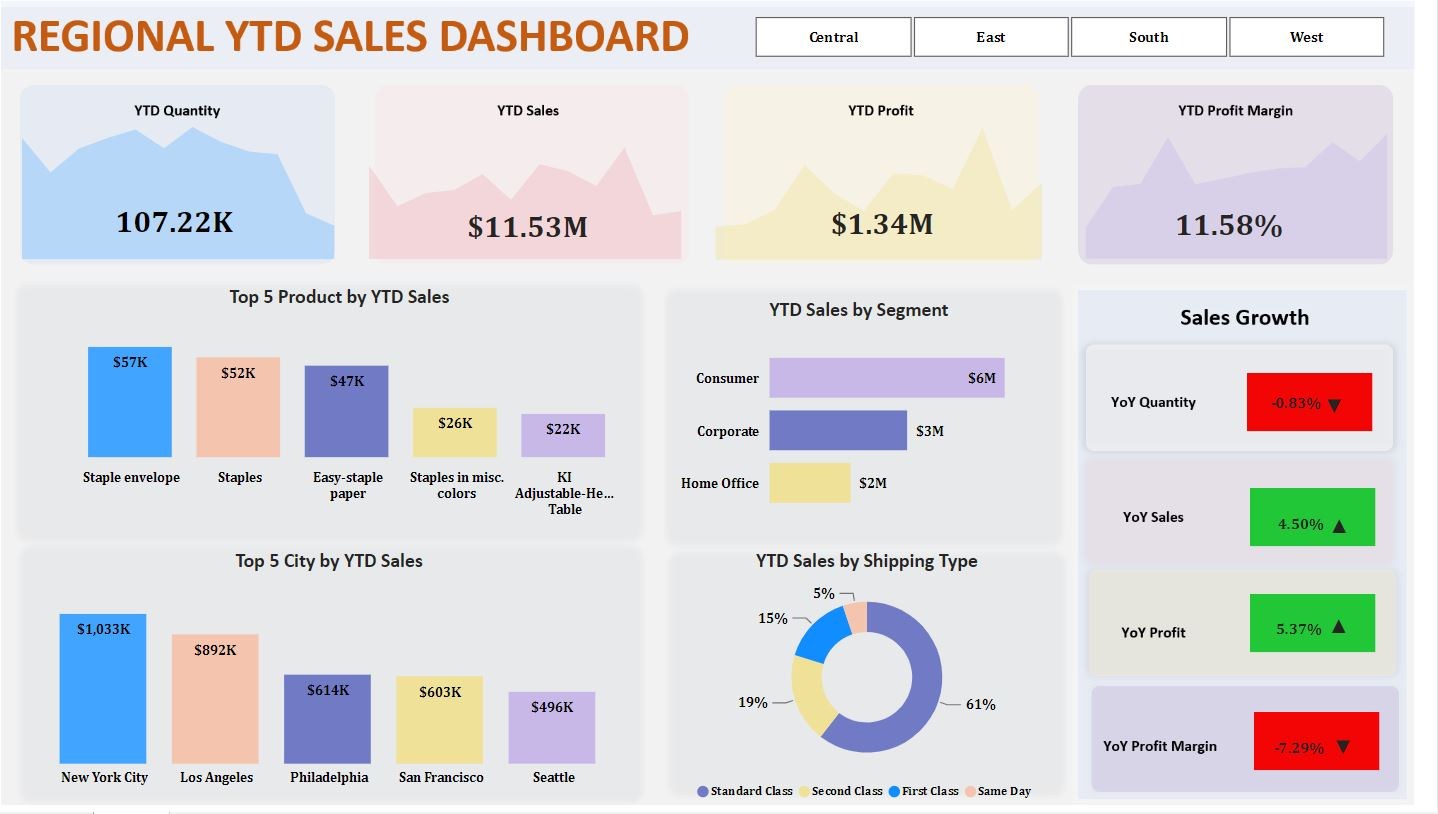

The page's visual inventory and layout, read from the dashboard file:
{"tool":"powerbi","page":{"name":"Page 1","canvas":[1280,720],"ordinal":0},"visuals":[{"type":"areaChart","fields":{"Y":["ecommerce_data.Profit Marging"],"Category":["CALENDAR.Month"]},"box":[956.7,85.6,294.1,154.1],"z":0},{"type":"shape","box":[1116.3,435.1,110,51.4],"z":0,"group":"g2"},{"type":"shape","box":[1115.7,528.5,110,51.4],"z":0,"group":"g1"},{"type":"shape","box":[1119.2,632.2,110,51.4],"z":0,"group":"g3"},{"type":"areaChart","fields":{"Y":["Sum(ecommerce_data.profit_per_order)"],"Category":["CALENDAR.Month"]},"box":[631.4,93.7,317.2,146],"z":1000},{"type":"cardVisual","fields":{"Data":["ecommerce_data.YoY Profit"]},"box":[1111.5,433.7,98.4,50.5],"z":1000,"group":"g2"},{"type":"cardVisual","fields":{"Data":["ecommerce_data.YoY Profit Margin"]},"box":[1113.5,519.8,91.3,69.2],"z":1000,"group":"g1"},{"type":"cardVisual","fields":{"Data":["ecommerce_data.YoY QTY"]},"box":[1116.7,631.1,84.2,49.7],"z":1000,"group":"g3"},{"type":"areaChart","fields":{"Category":["CALENDAR.Month"],"Y":["Sum(ecommerce_data.sales_per_order)"]},"box":[327.3,103.7,304.1,136],"z":2000},{"type":"cardVisual","fields":{"Data":["ecommerce_data.Profit icon"]},"box":[1158,433.3,72.7,54.1],"z":2000,"group":"g2"},{"type":"cardVisual","fields":{"Data":["ecommerce_data.Profit Margin icon"]},"box":[1157.9,521.5,71.8,53.2],"z":2000,"group":"g1"},{"type":"cardVisual","fields":{"Data":["ecommerce_data.QTY icon"]},"box":[1158,628.1,78,54.1],"z":2000,"group":"g3"},{"type":"areaChart","fields":{"Y":["Sum(ecommerce_data.order_quantity)"],"Category":["CALENDAR.Month"]},"box":[23.2,103.7,304.1,136],"z":3000},{"type":"shape","box":[1113.4,334.1,110.2,51.1],"z":4000},{"type":"cardVisual","fields":{"Data":["ecommerce_data.YoY"]},"box":[1116.2,327.2,80.7,44.3],"z":5000},{"type":"group","id":"g1","title":"Group 3","box":[1113.5,519.8,116.7,68.8],"z":6000},{"type":"cardVisual","fields":{"Data":["ecommerce_data.Sales icon"]},"box":[1154.3,328.1,70,50.5],"z":7000},{"type":"group","id":"g2","title":"Group 4","box":[1111.5,433.3,118.8,54.2],"z":8000},{"type":"group","id":"g3","title":"Group 2","box":[1116.7,628.1,119.8,54.2],"z":9000},{"type":"cardVisual","fields":{"Data":["ecommerce_data.YTD Profit"]},"box":[689.1,157.6,208.7,81.5],"z":10000},{"type":"cardVisual","fields":{"Data":["ecommerce_data.YTD Profit Margin"]},"box":[998.9,158.7,197.8,68.5],"z":11000},{"type":"cardVisual","fields":{"Data":["ecommerce_data.YTD QTY"]},"box":[73.9,155.4,195.7,79.3],"z":12000},{"type":"cardVisual","fields":{"Data":["ecommerce_data.YTD Sales"]},"box":[381.5,160.9,200,68.5],"z":13000},{"type":"clusteredColumnChart","title":"Top 5 Product by YTD Sales ","fields":{"Category":["ecommerce_data.product_name"],"Y":["ecommerce_data.YTD Sales"]},"box":[38,256.5,557.6,213],"z":14000},{"type":"clusteredBarChart","title":"YTD Sales by Segment","fields":{"Category":["ecommerce_data.customer_segment"],"Y":["ecommerce_data.YTD Sales"]},"box":[610.8,268.1,322.8,206.1],"z":15000},{"type":"donutChart","title":"YTD Sales by Shipping Type","fields":{"Category":["ecommerce_data.shipping_type"],"Y":["ecommerce_data.YTD Sales"]},"box":[610.9,488,337,231.5],"z":16000},{"type":"clusteredColumnChart","title":"Top 5 City by YTD Sales ","fields":{"Y":["ecommerce_data.YTD Sales"],"Category":["ecommerce_data.customer_city"]},"box":[26.1,488,562,217.4],"z":17000},{"type":"slicer","fields":{"Values":["ecommerce_data.customer_region"]},"box":[655.6,15.1,602.2,49.3],"z":18000}]}

Visuals, with their boxes in screenshot pixels (x1, y1, x2, y2), scaled from the page's 1280x720 canvas onto the 1438x814 screenshot:
areaChart - ecommerce_data.Profit Marging x CALENDAR.Month: BBox(1075, 97, 1405, 271)
shape: BBox(1254, 492, 1378, 550)
shape: BBox(1253, 597, 1377, 656)
shape: BBox(1257, 715, 1381, 773)
areaChart - Sum(ecommerce_data.profit_per_order) x CALENDAR.Month: BBox(709, 106, 1066, 271)
cardVisual - ecommerce_data.YoY Profit: BBox(1249, 490, 1359, 547)
cardVisual - ecommerce_data.YoY Profit Margin: BBox(1251, 588, 1354, 666)
cardVisual - ecommerce_data.YoY QTY: BBox(1255, 713, 1349, 770)
areaChart - CALENDAR.Month x Sum(ecommerce_data.sales_per_order): BBox(368, 117, 709, 271)
cardVisual - ecommerce_data.Profit icon: BBox(1301, 490, 1383, 551)
cardVisual - ecommerce_data.Profit Margin icon: BBox(1301, 590, 1381, 650)
cardVisual - ecommerce_data.QTY icon: BBox(1301, 710, 1389, 771)
areaChart - Sum(ecommerce_data.order_quantity) x CALENDAR.Month: BBox(26, 117, 368, 271)
shape: BBox(1251, 378, 1375, 435)
cardVisual - ecommerce_data.YoY: BBox(1254, 370, 1345, 420)
"Group 3" group: BBox(1251, 588, 1382, 665)
cardVisual - ecommerce_data.Sales icon: BBox(1297, 371, 1375, 428)
"Group 4" group: BBox(1249, 490, 1382, 551)
"Group 2" group: BBox(1255, 710, 1389, 771)
cardVisual - ecommerce_data.YTD Profit: BBox(774, 178, 1009, 270)
cardVisual - ecommerce_data.YTD Profit Margin: BBox(1122, 179, 1344, 257)
cardVisual - ecommerce_data.YTD QTY: BBox(83, 176, 303, 265)
cardVisual - ecommerce_data.YTD Sales: BBox(429, 182, 653, 259)
"Top 5 Product by YTD Sales " clusteredColumnChart: BBox(43, 290, 669, 531)
"YTD Sales by Segment" clusteredBarChart: BBox(686, 303, 1049, 536)
"YTD Sales by Shipping Type" donutChart: BBox(686, 552, 1065, 813)
"Top 5 City by YTD Sales " clusteredColumnChart: BBox(29, 552, 661, 797)
slicer - ecommerce_data.customer_region: BBox(737, 17, 1413, 73)
